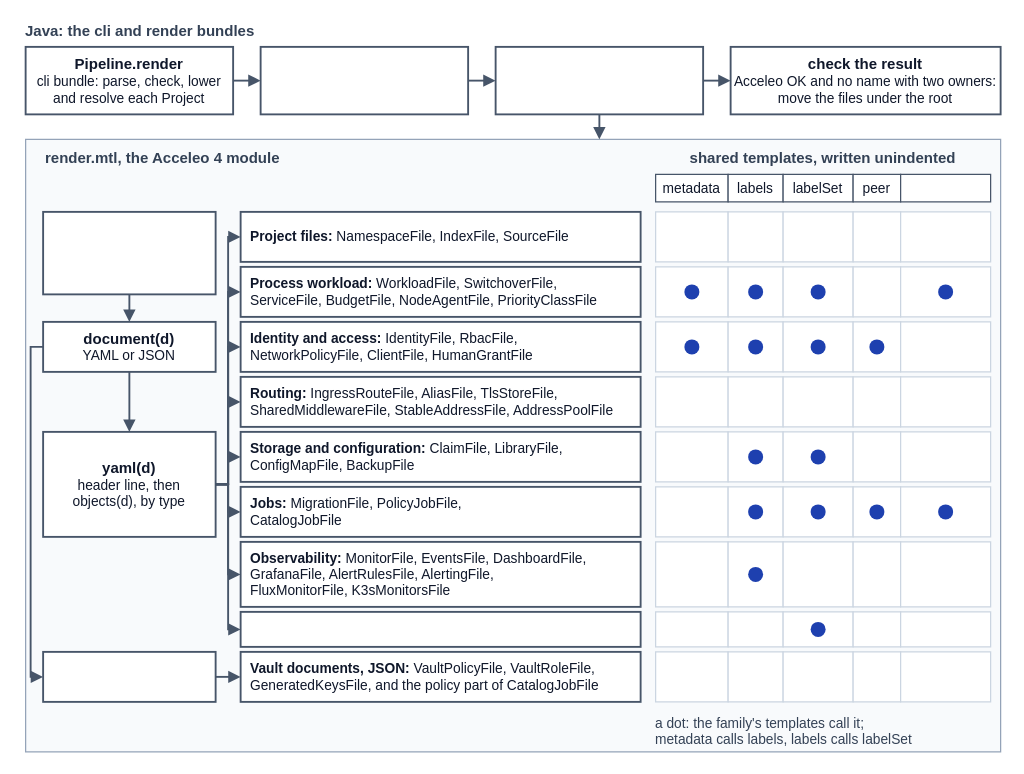
Image size: 1024x774. Some labels were removed from this diagram. Here are the shapes that lost their labels. From the top down, the box of each, then its label:
(259, 45, 468, 115): Rendering.render copy the Resolved Deployments into one resource
(494, 45, 704, 115): standalone generation run render.mtl, writing beside the root (.partial)
(899, 173, 991, 202): probeTarget
(42, 210, 216, 295): render(deployment) @main, for each d of its deliverables: [file (d.path)]
(239, 610, 641, 647): Secrets: SecretFile, ConnectionFile
(42, 650, 216, 702): json(d) no header
